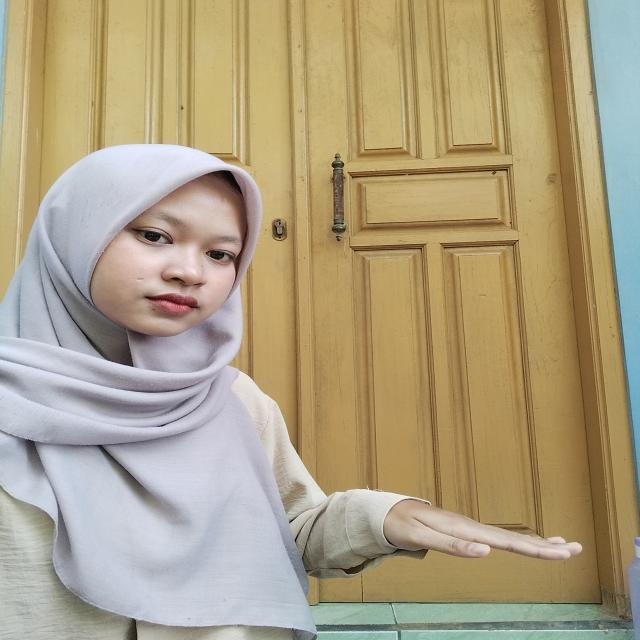adik: (316, 482, 600, 581)
